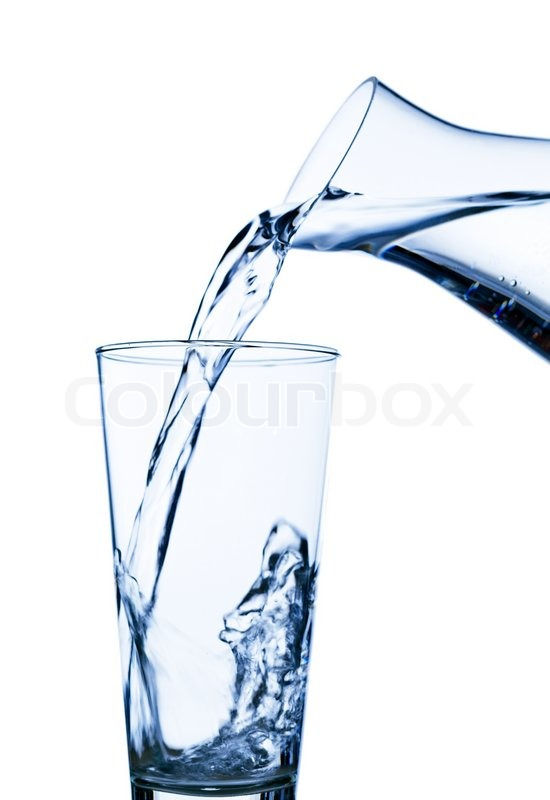glass of water: (97, 340, 326, 800)
